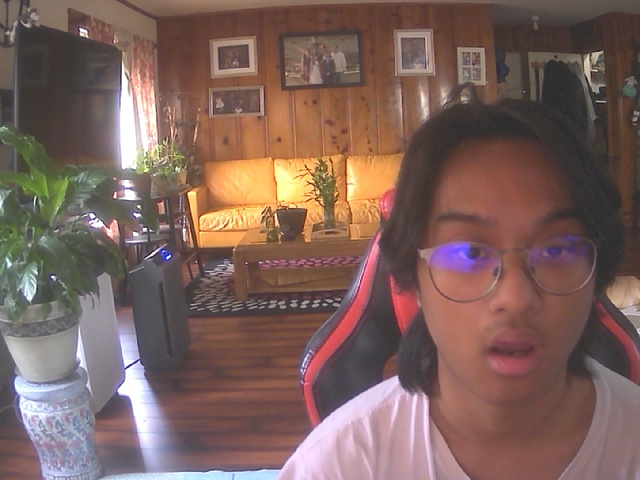fear: (404, 116, 616, 413)
